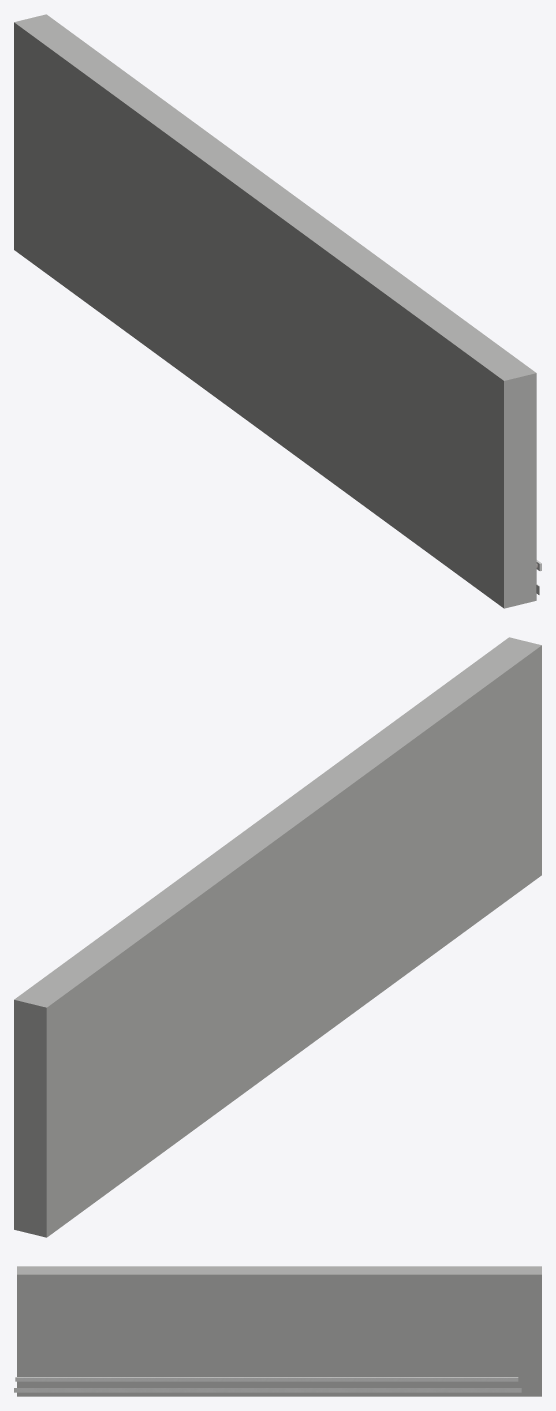
File: Inner_Right_Wall.obj
3 renders of one model, top to bottom at view 1: azimuth 30°, elevation 25°; view 2: azimuth 150°, elevation 25°; view 3: azimuth 270°, elevation 25°, orthographic. The views are drawn at different scales.
Visible parts, largest first — view 1: Part4; view 2: Part4; view 3: Part4, Part1, Part3.
Part boxes in pixels (box(x1,y1,x2,y2)): Part4: box(14, 14, 536, 608); Part4: box(14, 637, 541, 1237); Part4: box(17, 1266, 541, 1396); Part1: box(14, 1388, 521, 1392); Part3: box(15, 1377, 518, 1381).
Bounding box in the file's own units: 4.07 × 24.43 × 95.89.
3 materials, 2 textured.
